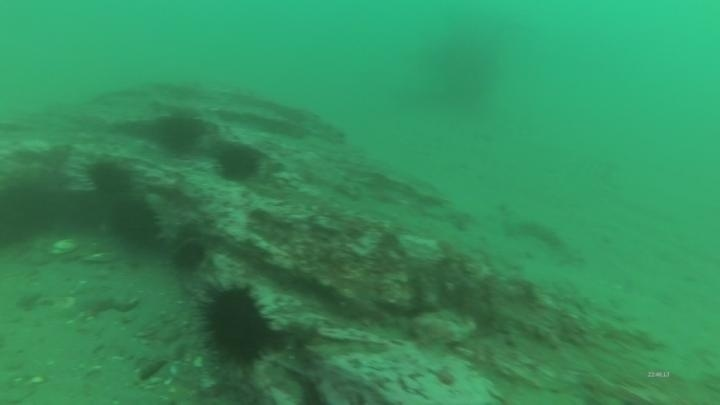echinus: (195, 280, 277, 370), (106, 195, 161, 250), (154, 111, 206, 157), (213, 141, 263, 185), (84, 156, 136, 198), (169, 237, 209, 275)
holothurian: (143, 190, 186, 250)
starfish: (73, 287, 141, 319)
